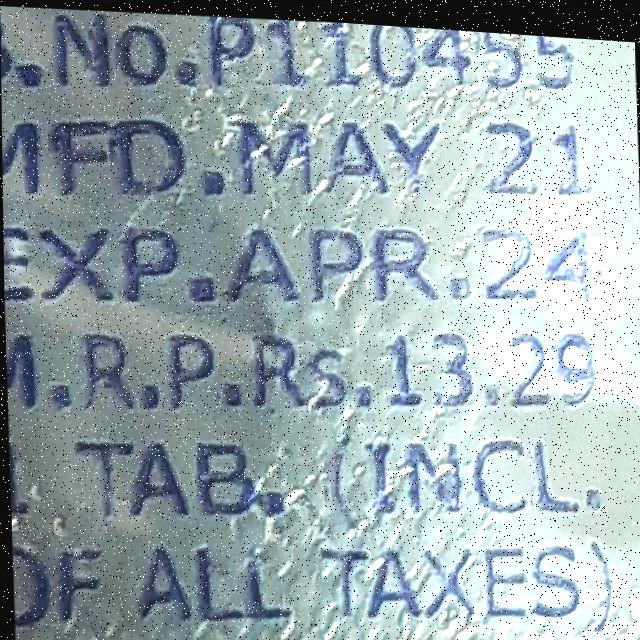sentence: (10, 533, 609, 628), (7, 431, 600, 526), (3, 217, 589, 309), (4, 323, 593, 407), (2, 113, 589, 194), (0, 6, 574, 87)
